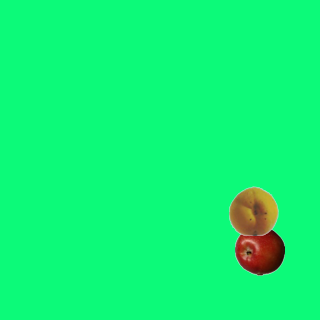Apple Braeburn: (234, 225, 284, 275)
Peach 2: (228, 185, 278, 235)
